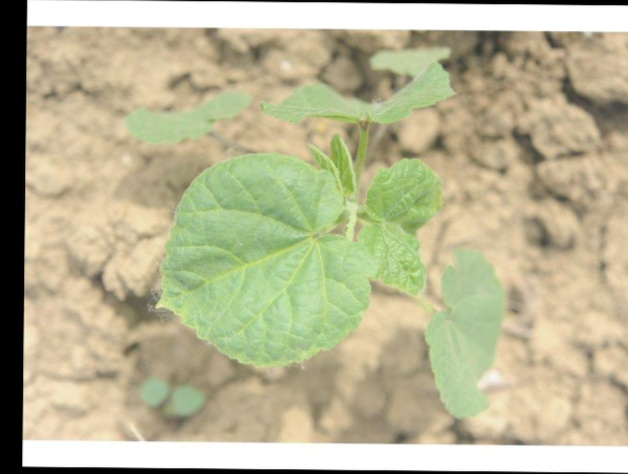velvet: (122, 43, 506, 415)
